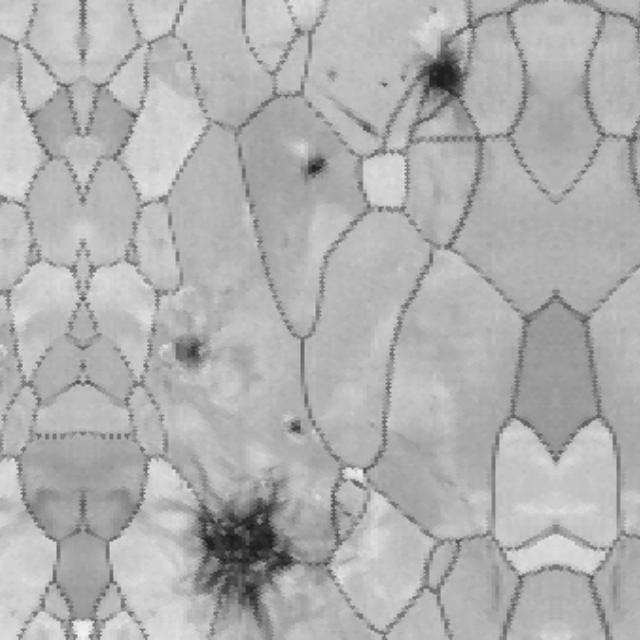good_void: (179, 469, 325, 589), (410, 32, 473, 105), (159, 330, 224, 376), (293, 139, 333, 188), (341, 105, 381, 138), (281, 415, 308, 437), (324, 67, 342, 84), (425, 3, 439, 20), (377, 79, 391, 92), (401, 73, 410, 84)
